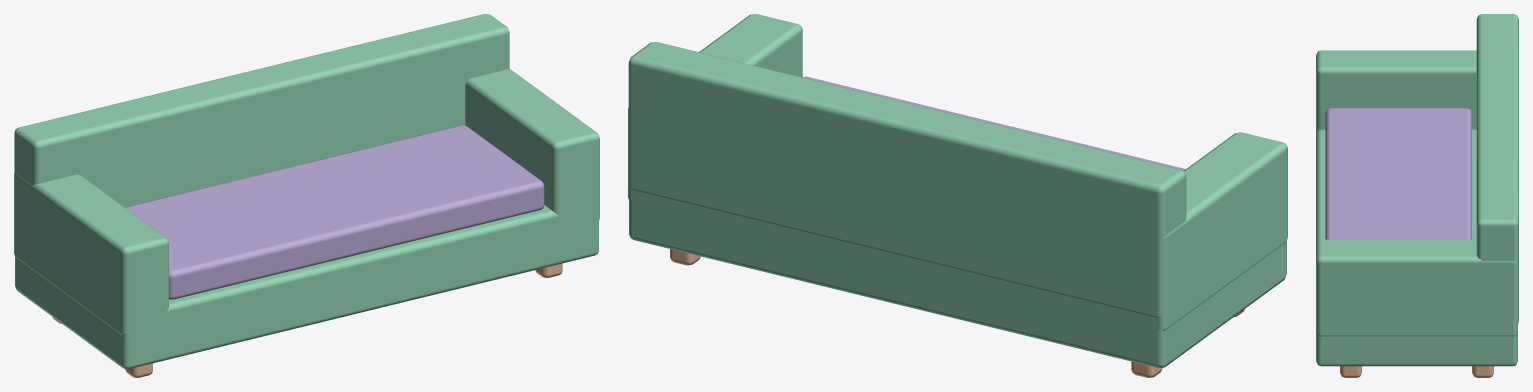
The model's file is sofa.glb.
3 views of the same model, side by side, from view 1: azimuth 30°, elevation 25°; view 2: azimuth 150°, elevation 25°; view 3: azimuth 270°, elevation 25° (orthographic). The views are drawn at different scales.
Parts seen in each view (by area): view 1: part (×5); view 2: part (×5); view 3: part (×7).
Part boxes in pixels (left/top/right/bottom): part (×5): left=14, top=14, right=599, bottom=369; part (×5): left=628, top=14, right=1287, bottom=368; part (×7): left=1316, top=14, right=1518, bottom=377.
Bounding box in the file's own units: 2.71 × 1.01 × 1.11.
1 material, 1 textured.
